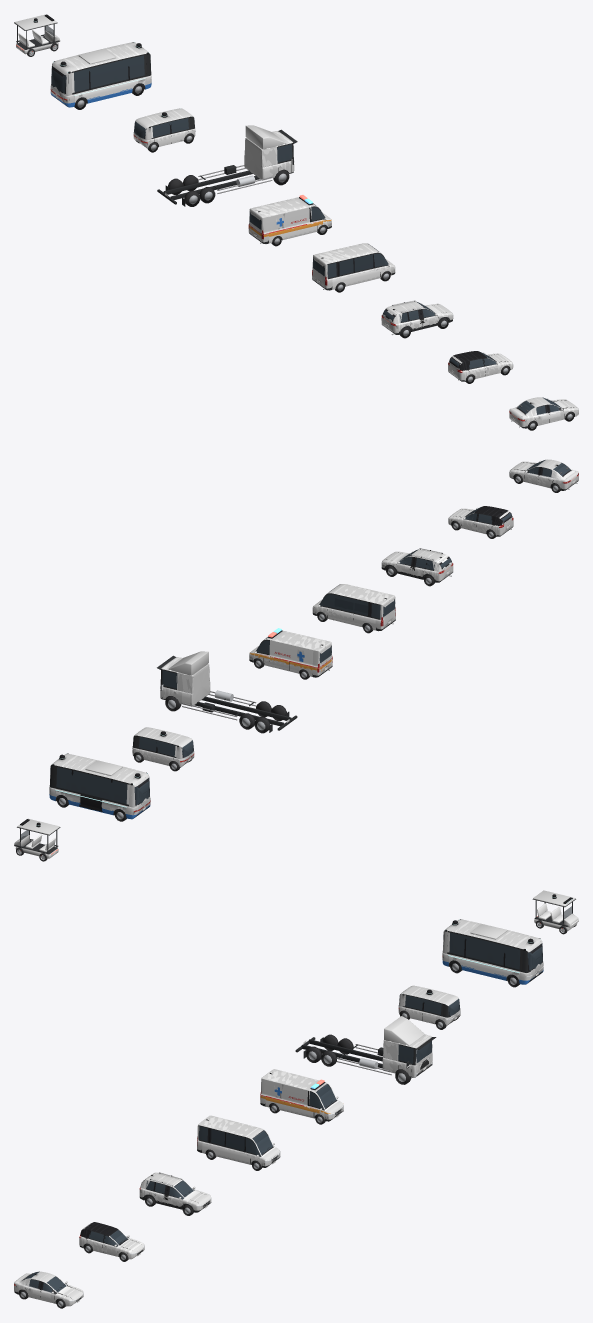
The model's file is vehicles.glb.
The picture shows the model from 3 angles, top to bottom: view 1: azimuth 30°, elevation 25°; view 2: azimuth 150°, elevation 25°; view 3: azimuth 330°, elevation 25°; orthographic projection.
Parts seen in each view (by area): view 1: shuttle_lod, shuttle_body, truck_parts, van_lod, ambulance_body, truck_lod, van_body, ambulance_lod, pod_lod, truck_body, cart_body, suv_lod (+7 smaller); view 2: shuttle_lod, shuttle_body, truck_parts, van_lod, ambulance_lod, truck_lod, ambulance_body, van_body, pod_body, truck_body, cart_body, suv_body (+7 smaller); view 3: shuttle_lod, van_lod, shuttle_body, truck_parts, ambulance_body, truck_lod, ambulance_lod, van_body, suv_lod, cart_body, pod_lod, suv_body (+8 smaller).
Part boxes in pixels (<box>): shuttle_lod: <box>51,44,150,109</box>; shuttle_body: <box>50,42,151,107</box>; truck_parts: <box>157,125,297,206</box>; van_lod: <box>312,243,391,292</box>; ambulance_body: <box>248,197,331,243</box>; truck_lod: <box>167,131,292,206</box>; van_body: <box>312,243,395,290</box>; ambulance_lod: <box>249,197,328,246</box>; pod_lod: <box>133,110,194,152</box>; truck_body: <box>244,131,294,180</box>; cart_body: <box>14,14,60,54</box>; suv_lod: <box>381,301,449,338</box>; shuttle_lod: <box>50,755,150,821</box>; shuttle_body: <box>49,754,150,819</box>; truck_parts: <box>157,651,297,732</box>; van_lod: <box>316,584,395,633</box>; ambulance_lod: <box>253,630,332,679</box>; truck_lod: <box>161,657,286,733</box>; ambulance_body: <box>249,631,332,677</box>; van_body: <box>312,584,395,631</box>; pod_body: <box>132,727,194,767</box>; truck_body: <box>160,657,210,706</box>; cart_body: <box>14,818,60,859</box>; suv_body: <box>381,549,453,582</box>; shuttle_lod: <box>443,921,542,987</box>; van_lod: <box>198,1116,279,1170</box>; shuttle_body: <box>442,919,543,984</box>; truck_parts: <box>295,1016,436,1075</box>; ambulance_body: <box>260,1069,343,1121</box>; truck_lod: <box>306,1034,432,1084</box>; ambulance_lod: <box>263,1069,342,1124</box>; van_body: <box>197,1115,280,1167</box>; suv_lod: <box>140,1172,210,1215</box>; cart_body: <box>532,890,578,931</box>; pod_lod: <box>399,987,459,1029</box>; suv_body: <box>139,1172,211,1212</box>.
Size of the model in its own units: 9 by 3.55 by 65.7.
